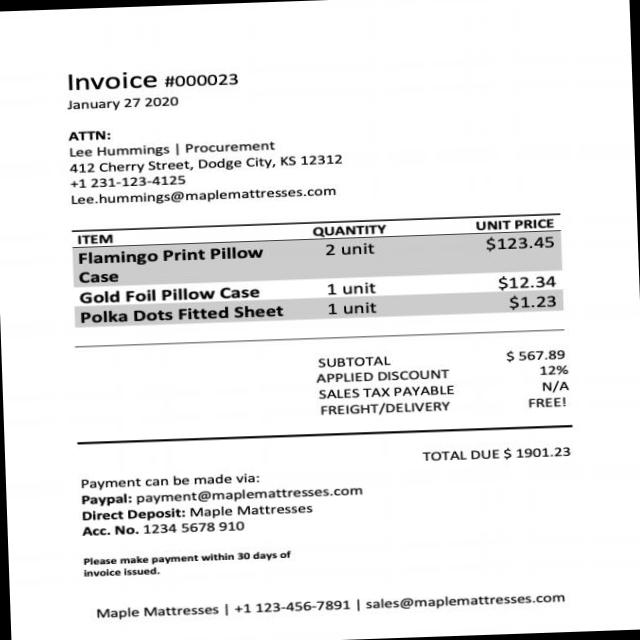customer_address: (68, 150, 350, 177)
customer_name: (67, 138, 282, 158)
invoice_date: (66, 94, 182, 112)
invoice_number: (162, 68, 257, 92)
invoice_subtotal: (498, 346, 567, 364)
invoice_total: (502, 443, 573, 464)
item_description: (70, 242, 292, 329)
item_quantity: (317, 239, 344, 320)
item_unit_price: (481, 232, 561, 314)
supplier_name: (92, 600, 220, 623)
tax_rate: (530, 364, 569, 376)
